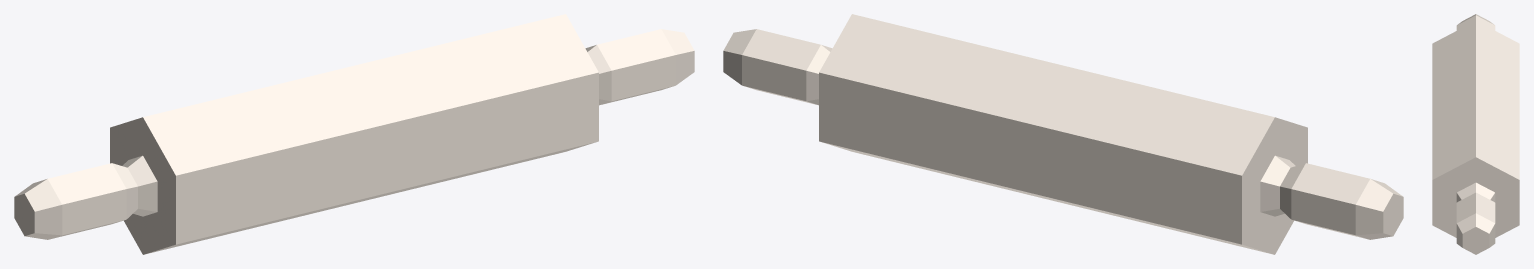
Rendered from rollingPin1_PLY.fbx.
3 renders of one model, left to right at view 1: azimuth 30°, elevation 25°; view 2: azimuth 150°, elevation 25°; view 3: azimuth 270°, elevation 25°, orthographic. The views are drawn at different scales.
Visible parts, largest first — view 1: rollingPin1_PLY; view 2: rollingPin1_PLY; view 3: rollingPin1_PLY.
Boxes of the visible parts, bbox=[...] form: rollingPin1_PLY: bbox=[14, 14, 694, 254]; rollingPin1_PLY: bbox=[723, 14, 1403, 254]; rollingPin1_PLY: bbox=[1432, 14, 1519, 254].
Bounding box in the file's own units: 2.51 × 0.5 × 0.433.
